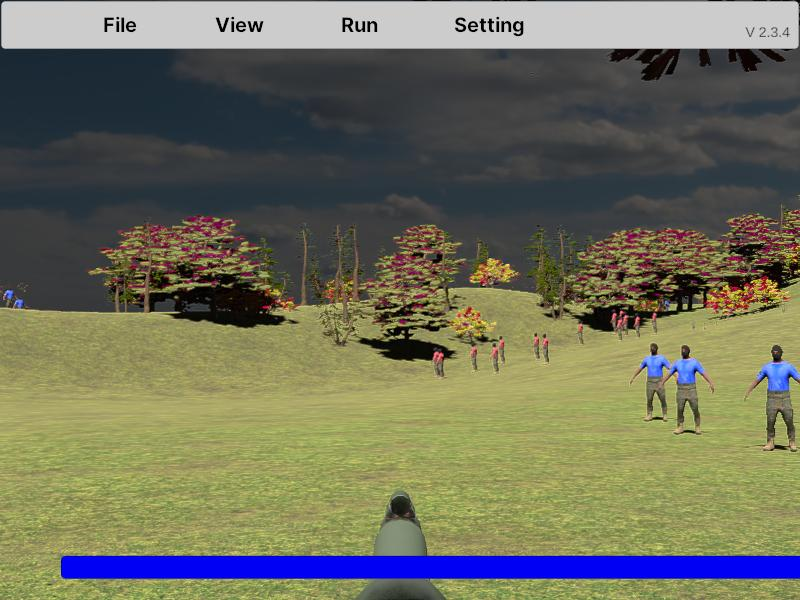Human: (744, 346, 800, 452), (657, 345, 714, 435), (630, 342, 679, 423), (630, 342, 679, 422)
